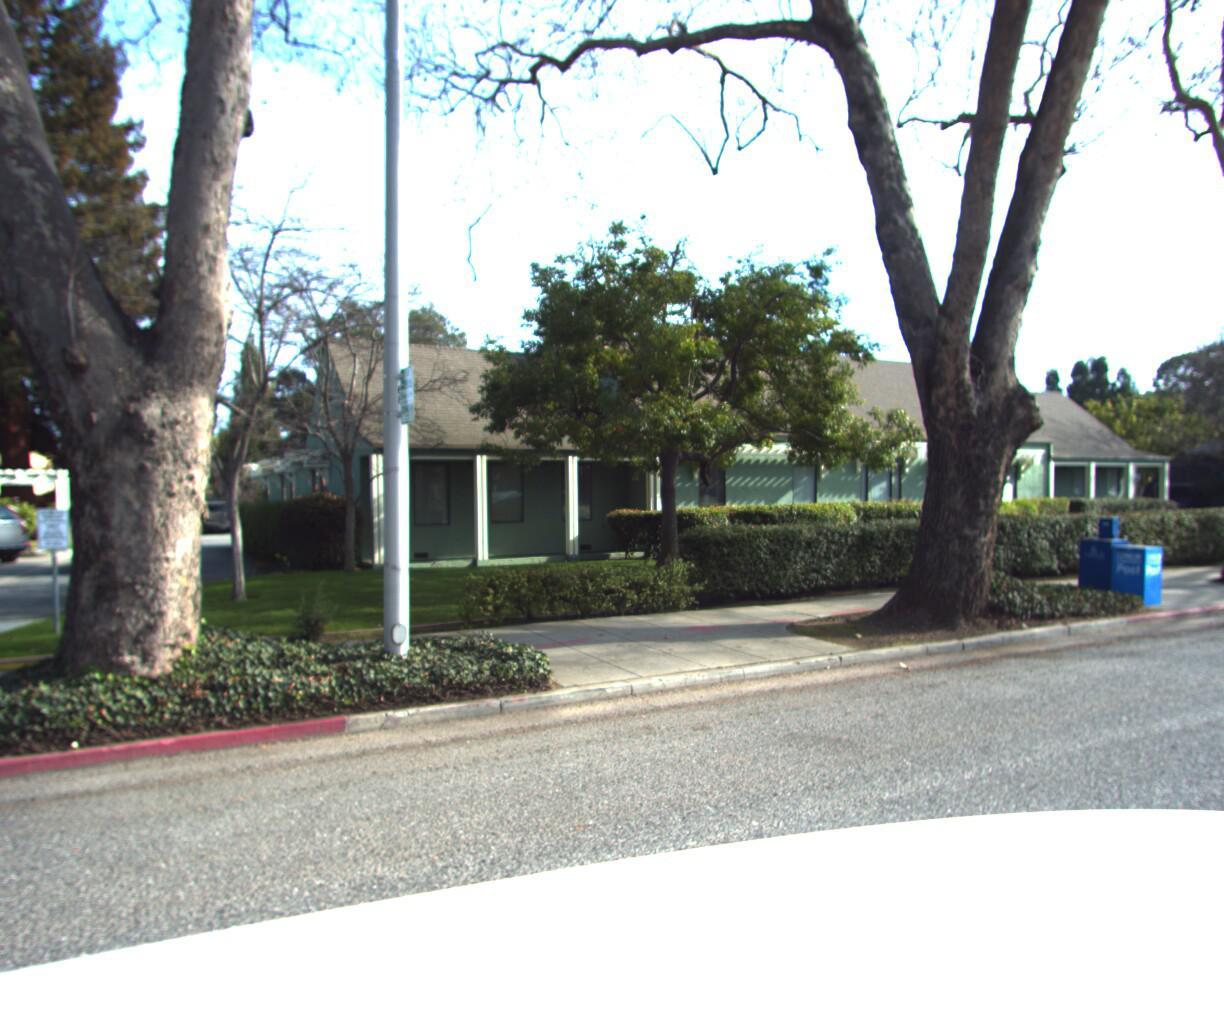car: (56, 497, 179, 569), (0, 493, 44, 561)
